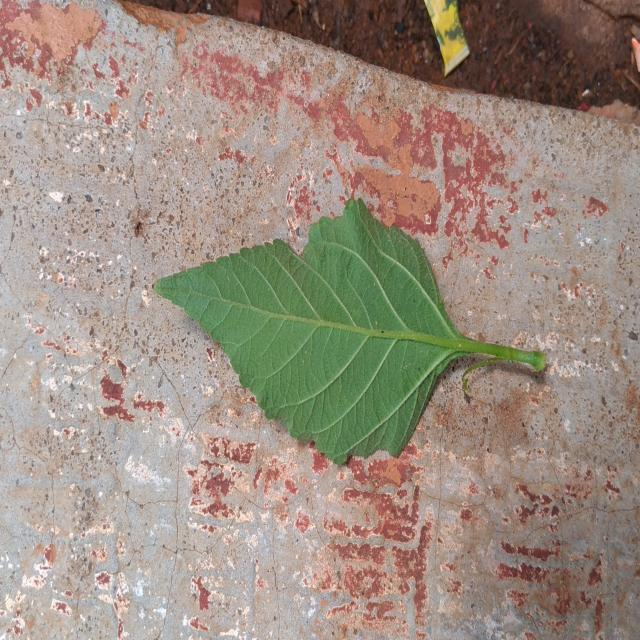Lantana: (155, 200, 546, 464)
